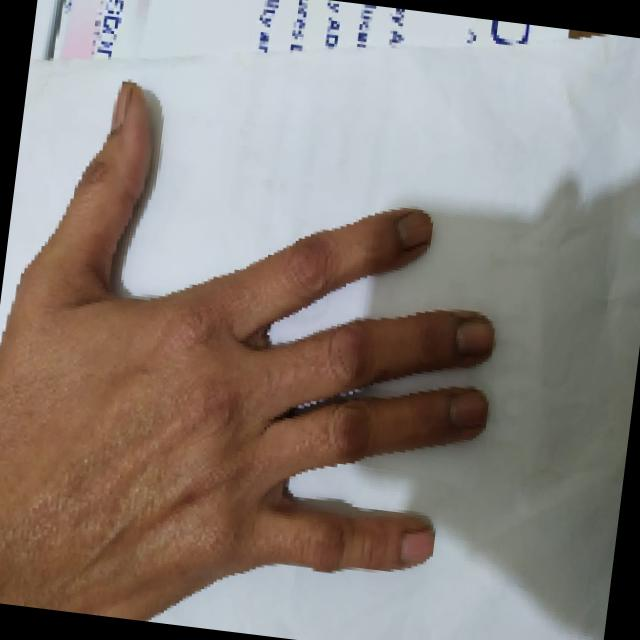Nail: (394, 208, 432, 250), (448, 389, 487, 429), (455, 317, 493, 357), (399, 531, 433, 566), (111, 81, 131, 133)
